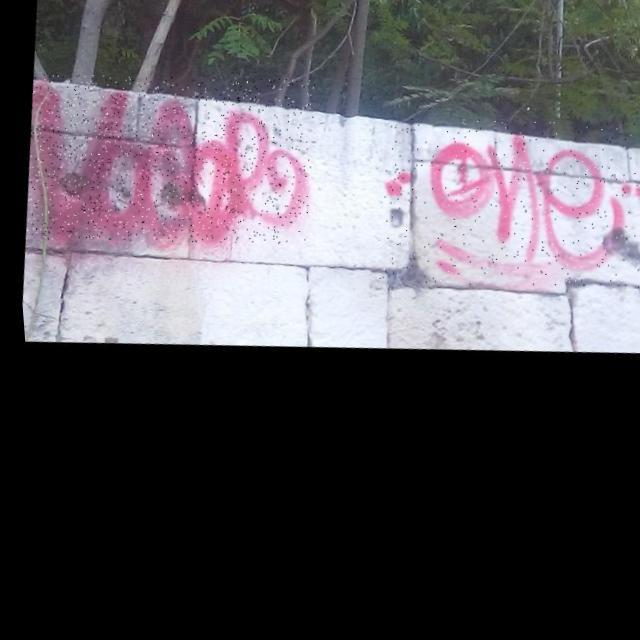-: (12, 51, 322, 272), (364, 104, 640, 323)
